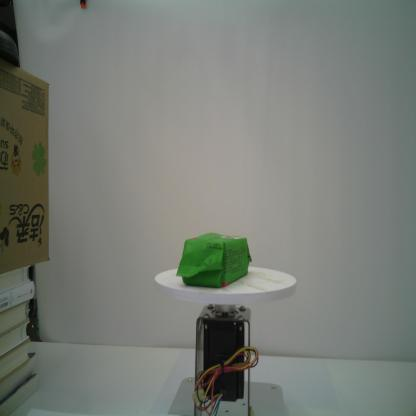Dessert: (175, 231, 253, 289)
